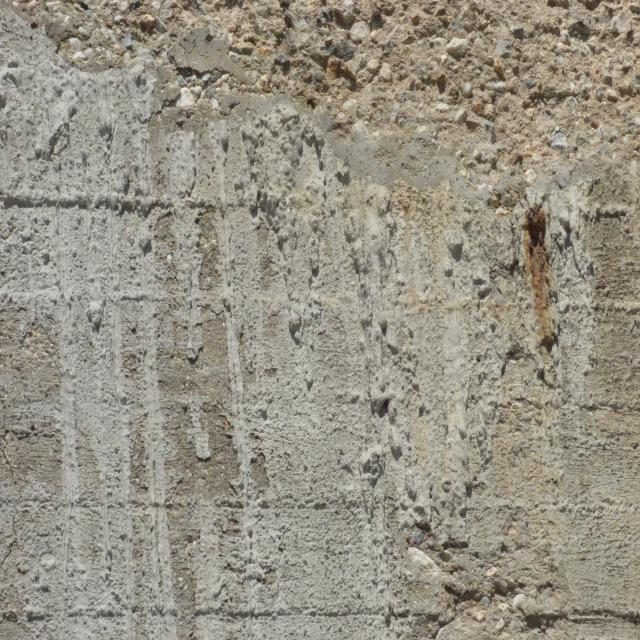corrosion: (513, 193, 568, 381)
